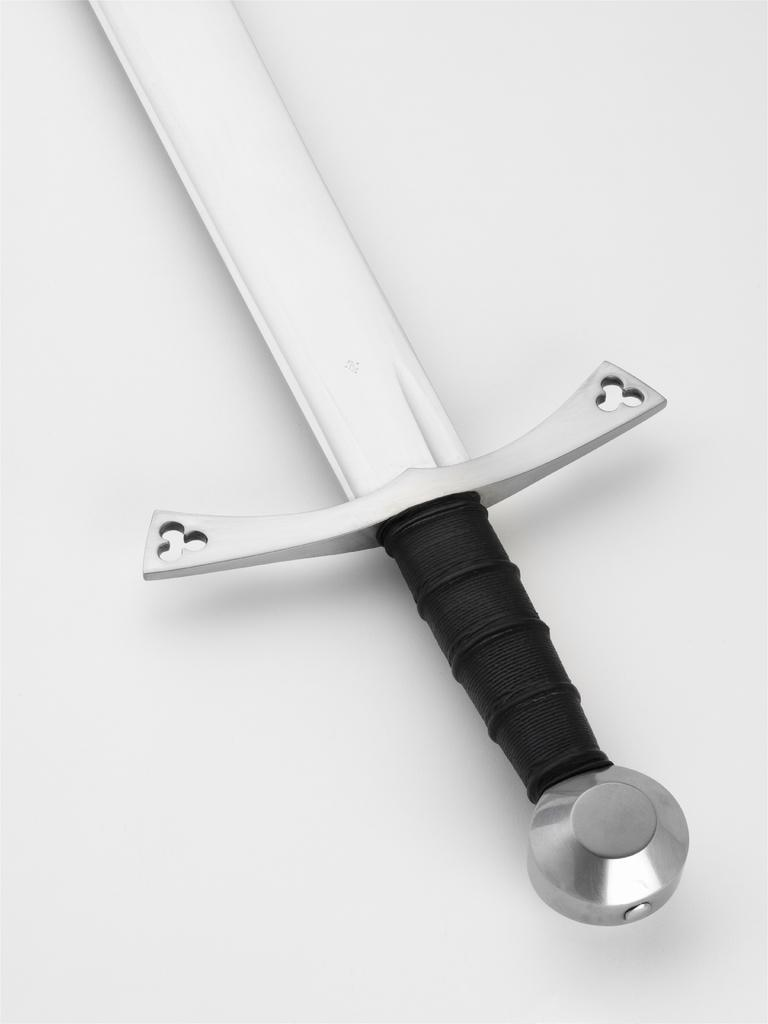Sword: (86, 0, 689, 926)
